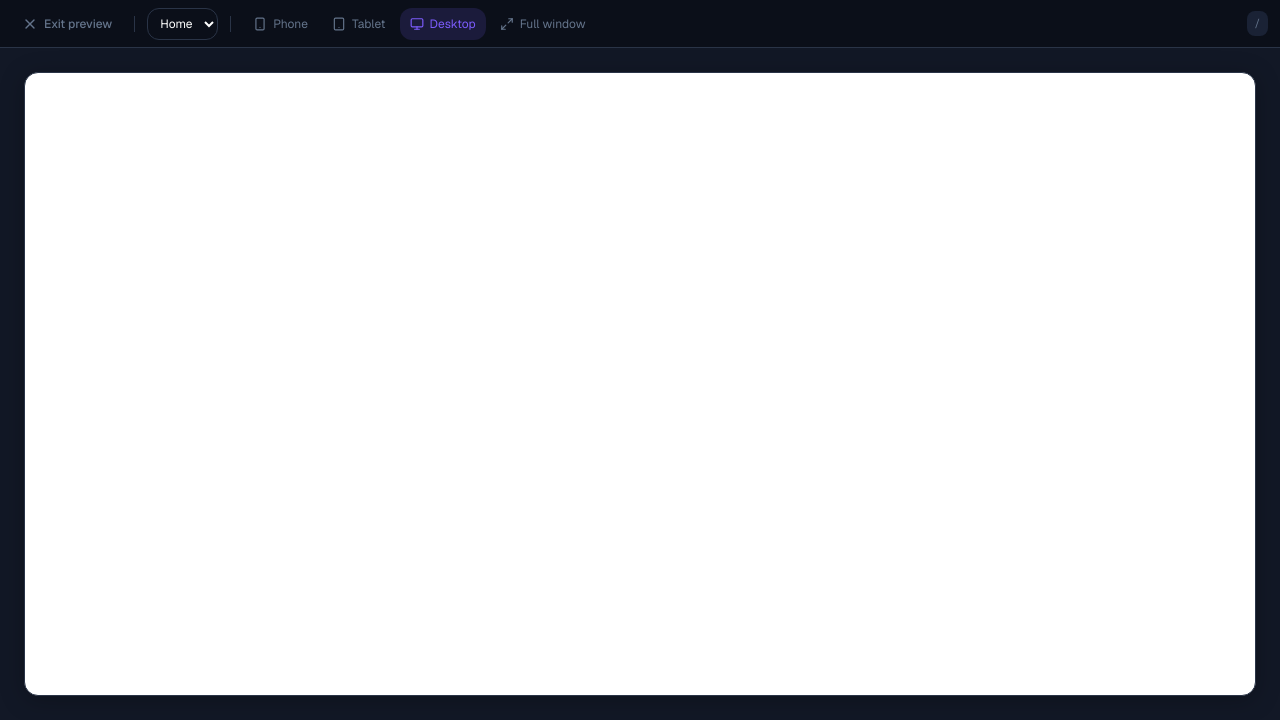
Test case: PreviewShell › switches pages from the page switcher
The image size is (1280, 720).
Select "About" in the dropdown with test id "preview-page-switcher" at {"x": 183, "y": 24}, box [147,8,218,40]
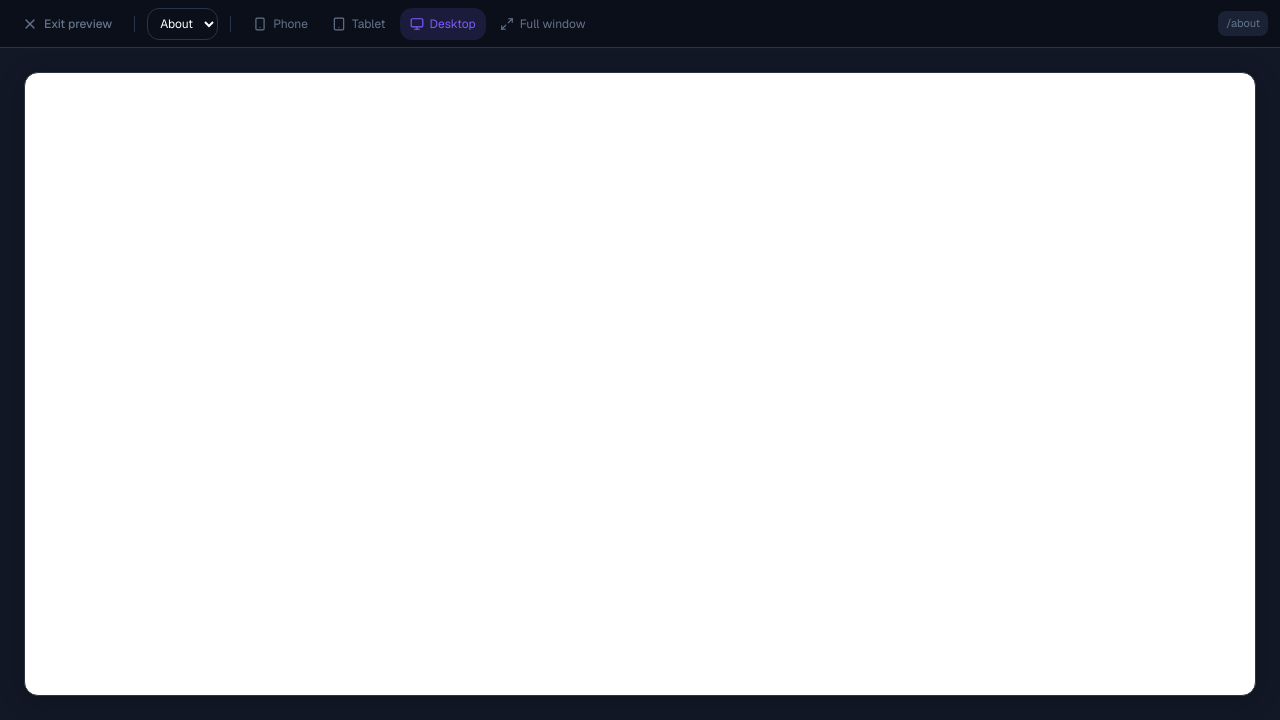
Expected: the text "/about" is shown, [1218,11,1268,36]
Expected: the text with test id "preview-route" reads "/about", [1226,16,1260,30]
